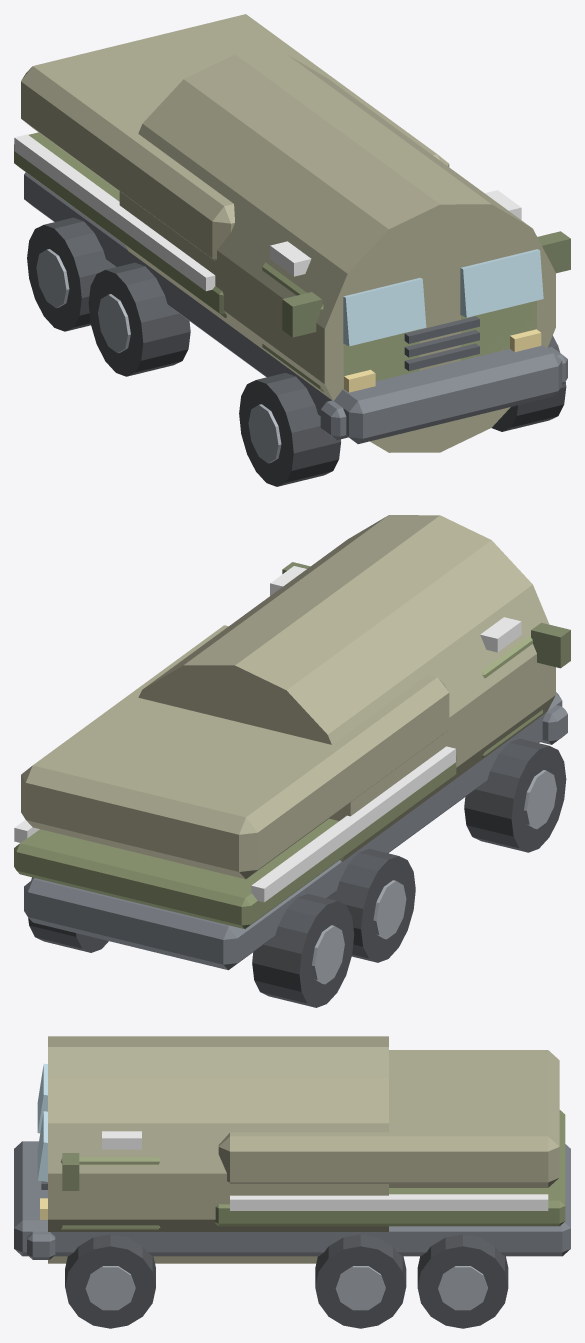
The model's file is trooptruck.glb.
The picture shows the model from 3 angles, top to bottom: view 1: azimuth 30°, elevation 25°; view 2: azimuth 150°, elevation 25°; view 3: azimuth 270°, elevation 25°; orthographic projection. The views are drawn at different scales.
Visible parts, largest first — view 1: main; view 2: main; view 3: main.
Boxes of the visible parts, x1,y1,x2,y2 form: main: [14, 14, 570, 486]; main: [14, 515, 570, 1007]; main: [14, 1036, 570, 1328].
Bounding box in the file's own units: 0.47 × 0.44 × 0.98.
